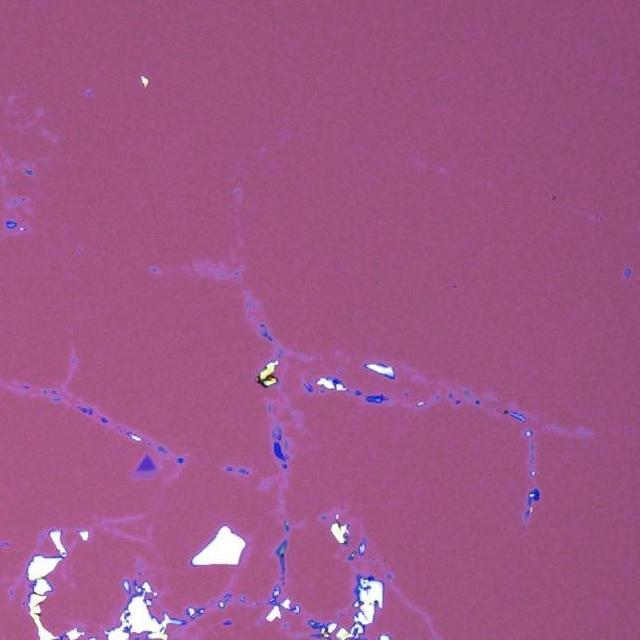monolayer-eWW4: (131, 471, 153, 479)
